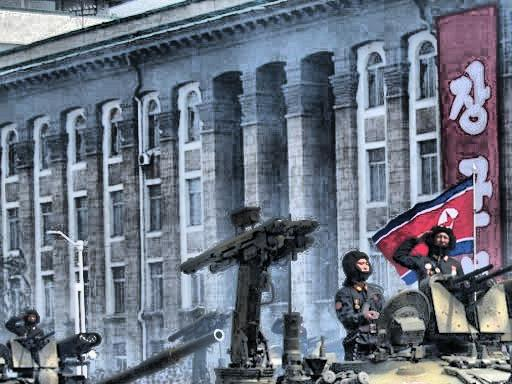tanks: (218, 271, 512, 384), (98, 331, 225, 384), (2, 333, 101, 384)
